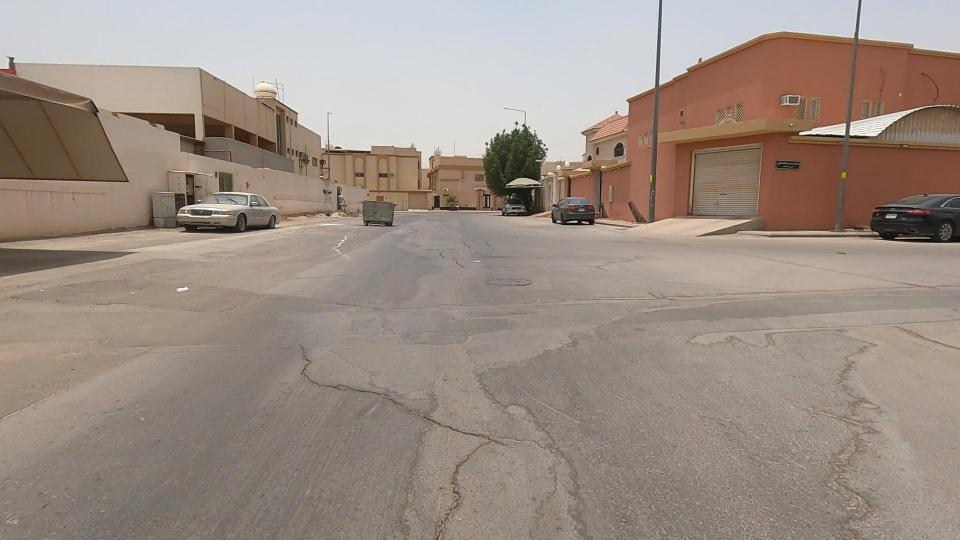CONSTRUCTION_ROAD: (315, 334, 587, 540)
GARBAGE: (157, 278, 219, 308)
